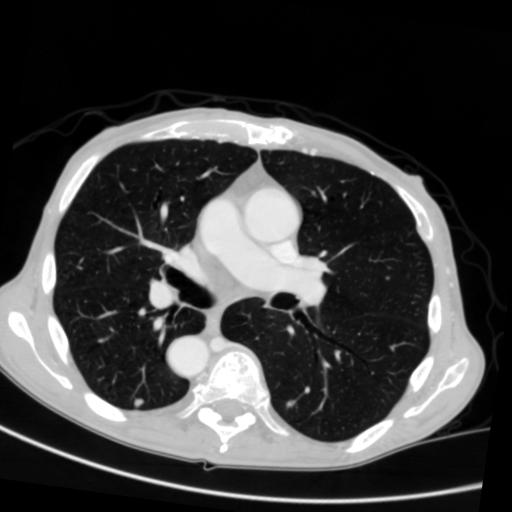nodule: (133, 395, 149, 411)
